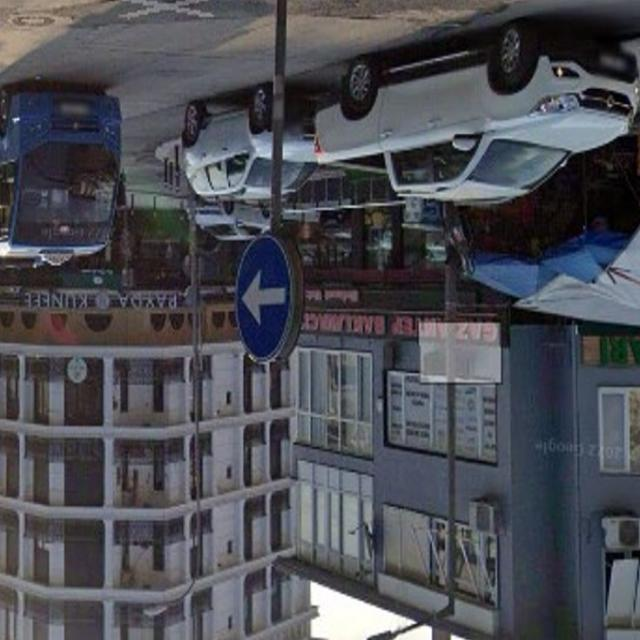Turn Left: (236, 240, 299, 364)
